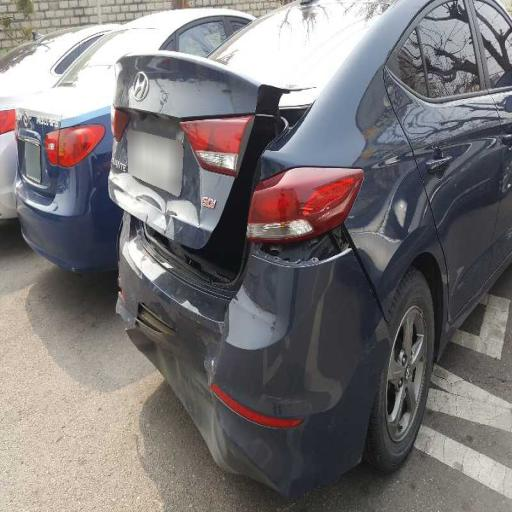dent: (120, 240, 340, 470), (107, 38, 236, 224)
